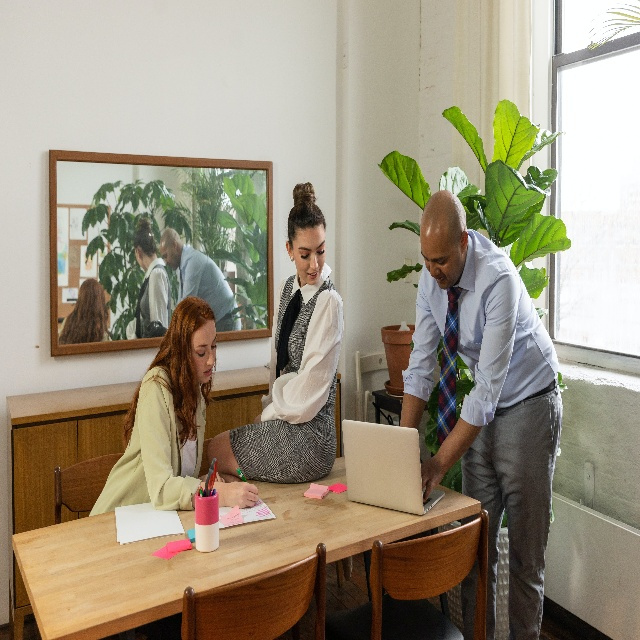Sin_guantes: (420, 455, 444, 502), (226, 480, 259, 509), (213, 471, 225, 483)
